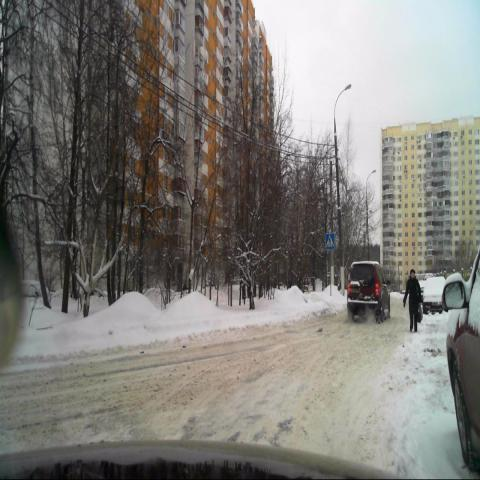5_19_1: (324, 233, 334, 251)
